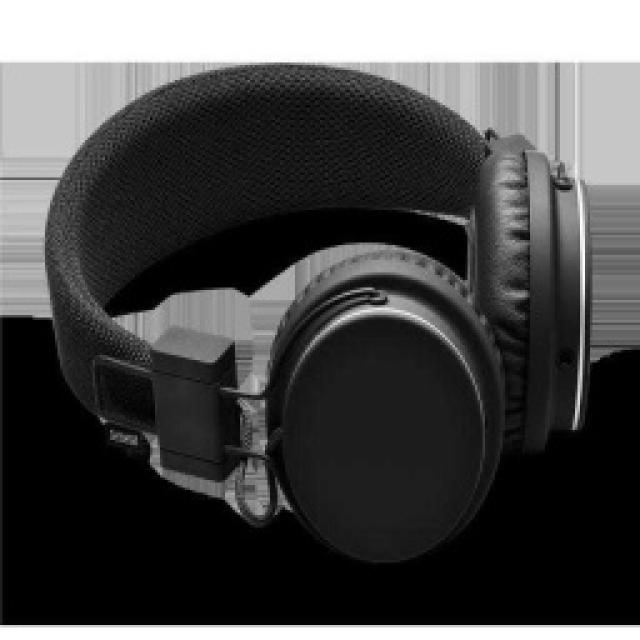headphones: (40, 60, 595, 565)
